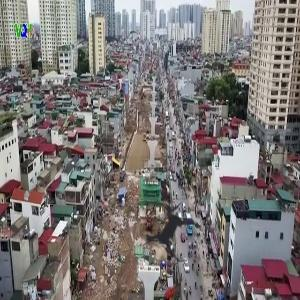drone: (118, 175, 229, 286)
